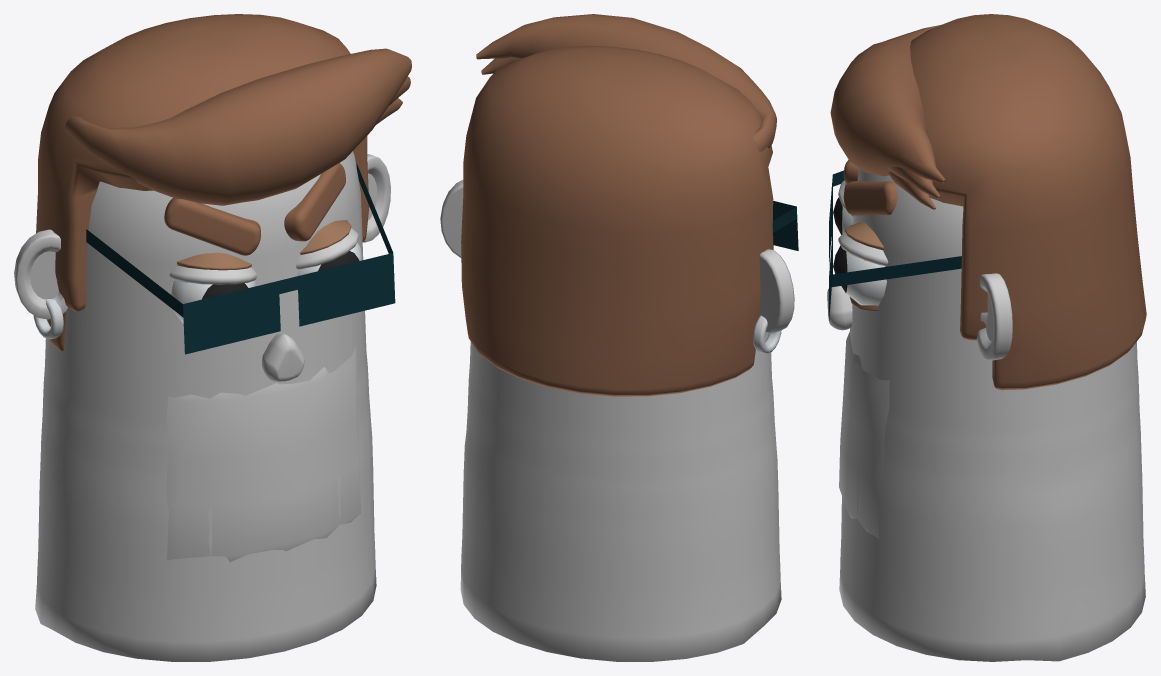
File: head 2.fbx
The picture shows the model from 3 angles, left to right: view 1: azimuth 30°, elevation 25°; view 2: azimuth 150°, elevation 25°; view 3: azimuth 270°, elevation 25°; orthographic projection. The views are drawn at different scales.
Visible parts, largest first — view 1: head2, face_2; view 2: head2; view 3: head2, face_2.
Boxes of the visible parts, x1,y1,x2,y2 form: head2: (14,14,411,661); face_2: (166,346,361,561); head2: (440,14,798,661); head2: (827,14,1146,661); face_2: (839,332,889,538).
Bounding box in the file's own units: 0.5116 × 0.7368 × 0.3886.
